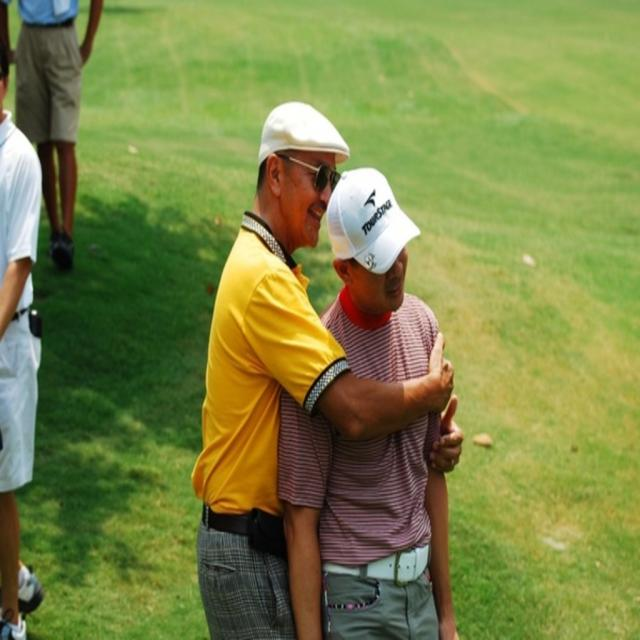Hat: (326, 165, 423, 277)
